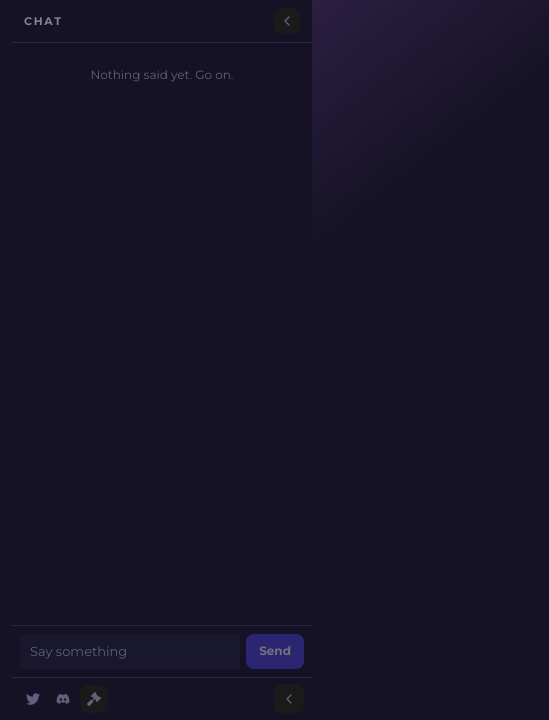
the site chat panel › keeps the text when it was refused, so it is not lost to a rate limit
Type "hello" into the field with placeholder "Say something" at point(130, 651), box [20,634,240,669]
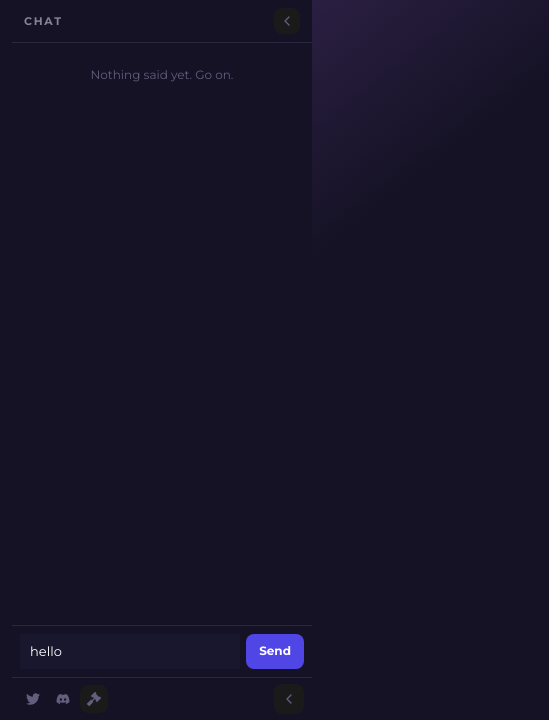
Submit the form with placeholder "Say something", box [12,624,312,677]
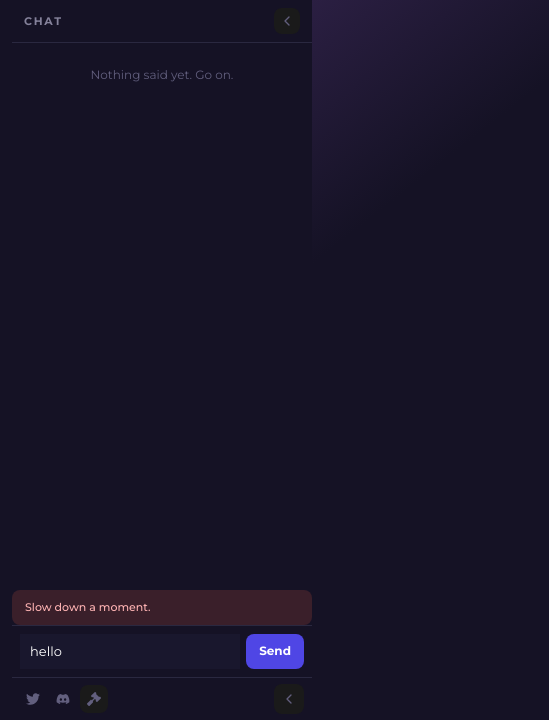
Expected: the button "Slow down a moment." is shown, [12,590,312,624]
